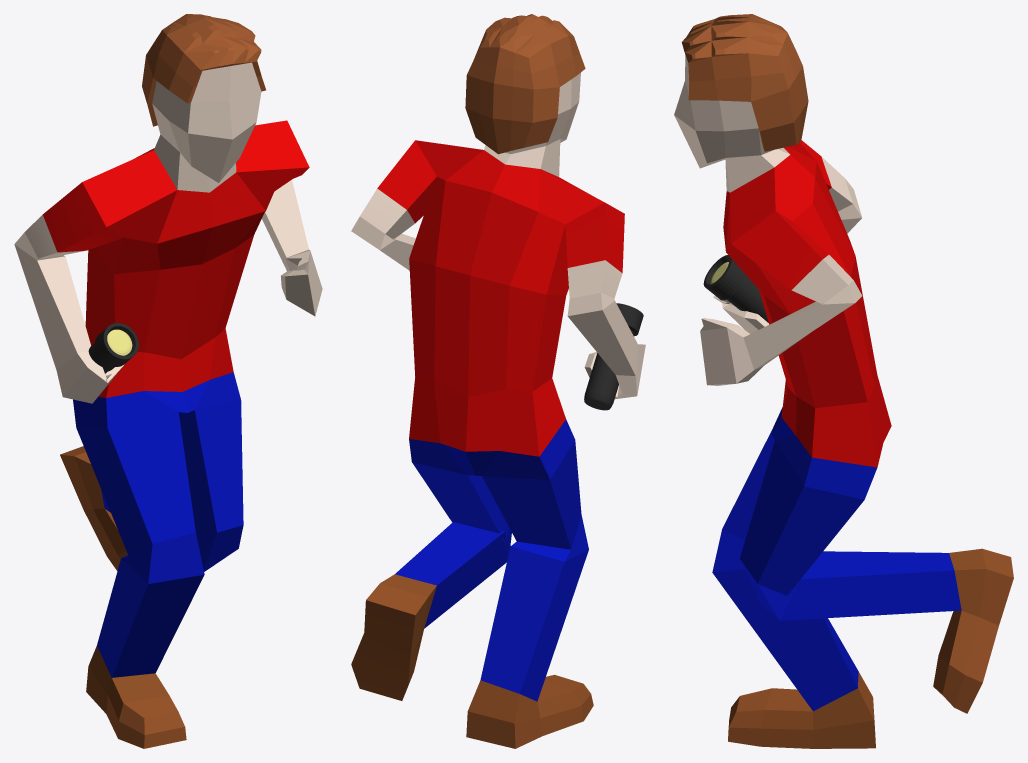
The model's file is Human_running_21.fbx.
3 renders of one model, left to right at view 1: azimuth 30°, elevation 25°; view 2: azimuth 150°, elevation 25°; view 3: azimuth 270°, elevation 25°, orthographic. The views are drawn at different scales.
Parts seen in each view (by area): view 1: Person.004, Flashlight; view 2: Person.004, Flashlight; view 3: Person.004, Flashlight.
Part boxes in pixels (box(x1,y1,x2,y2)): Person.004: box(14, 14, 322, 748); Flashlight: box(88, 323, 138, 373); Person.004: box(351, 14, 645, 748); Flashlight: box(584, 303, 643, 410); Person.004: box(674, 14, 1013, 748); Flashlight: box(703, 255, 768, 322).
Bounding box in the file's own units: 0.573 × 1.47 × 0.616.
